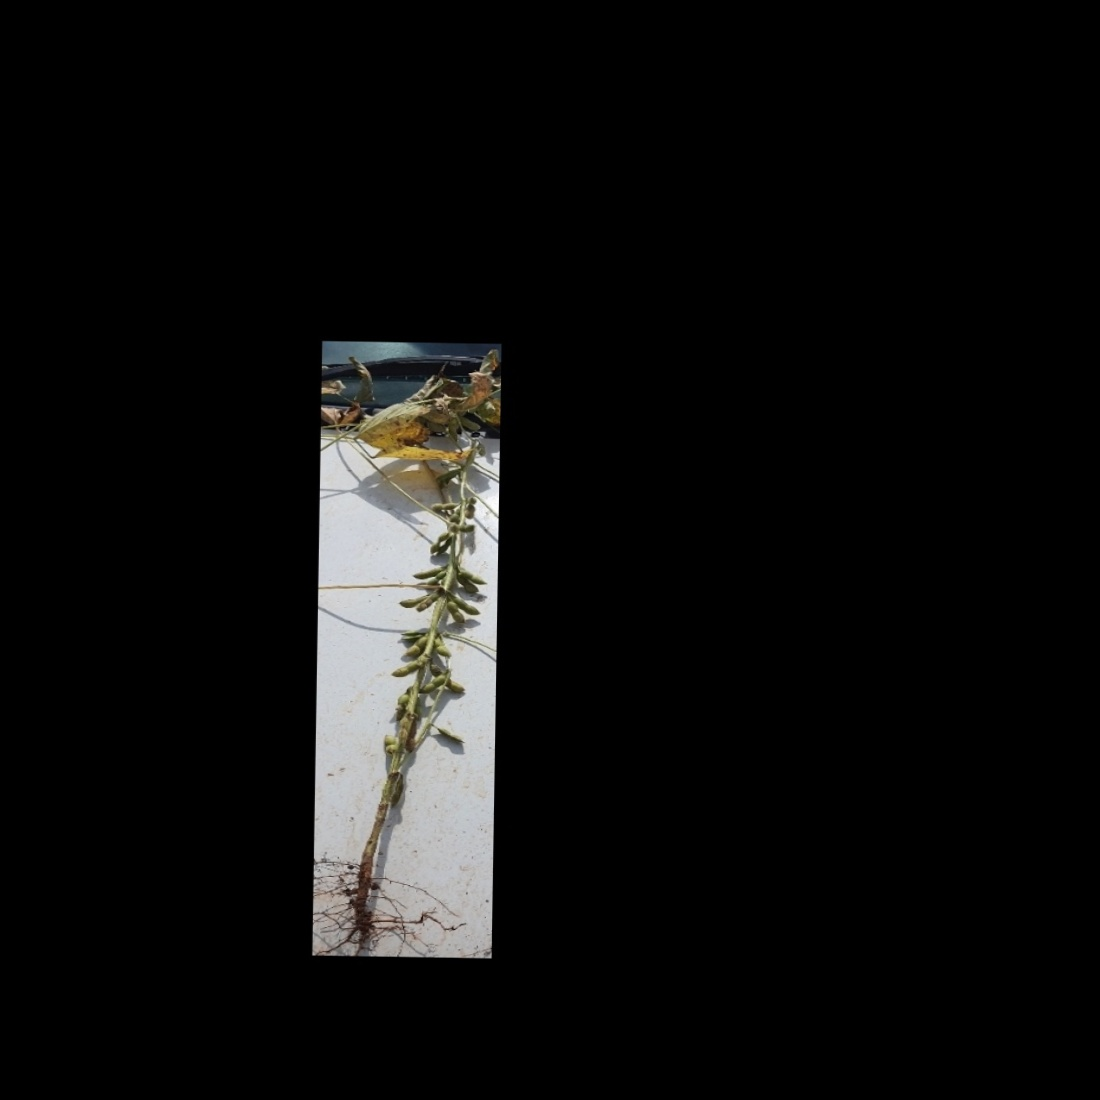pod: (388, 659, 427, 679), (417, 672, 448, 695), (435, 726, 468, 746), (443, 598, 467, 625), (426, 529, 448, 556), (413, 592, 439, 614), (453, 573, 478, 593), (462, 567, 491, 584), (430, 499, 461, 512), (432, 638, 452, 658), (423, 571, 444, 589), (406, 720, 417, 752), (463, 495, 476, 520), (394, 687, 412, 705), (384, 734, 397, 755), (476, 442, 487, 459)
soy: (326, 363, 492, 941)
